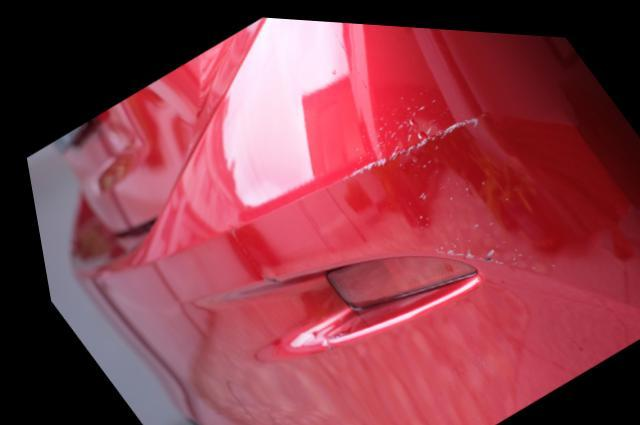scratch: (341, 76, 533, 258)
